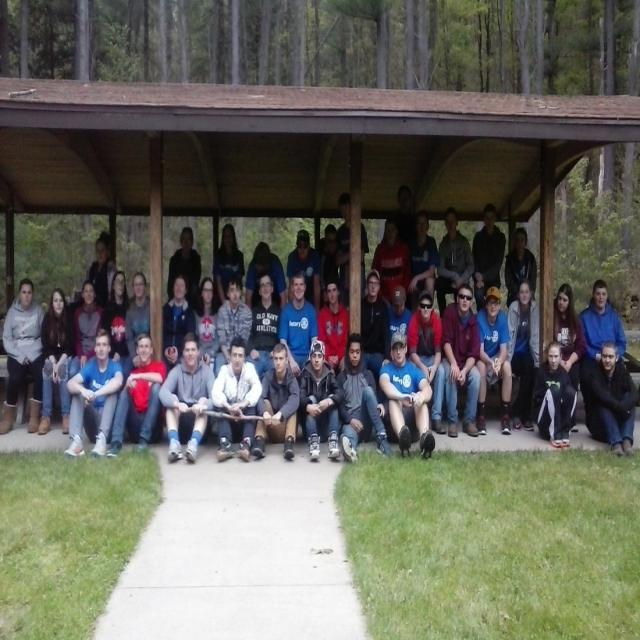body: (104, 328, 169, 462), (63, 326, 126, 460), (157, 328, 218, 465), (334, 331, 395, 464), (377, 329, 438, 461), (0, 276, 47, 436), (209, 334, 263, 464), (438, 282, 481, 440), (578, 277, 628, 412), (585, 338, 639, 457), (405, 287, 447, 436), (250, 339, 300, 463), (36, 286, 76, 437), (297, 338, 345, 463), (474, 285, 513, 437), (506, 277, 542, 433), (530, 337, 579, 451), (552, 282, 587, 435), (276, 268, 319, 385), (436, 205, 475, 318), (470, 201, 507, 319), (216, 274, 256, 380), (245, 270, 282, 379), (335, 192, 370, 307), (67, 278, 106, 381), (370, 217, 416, 301), (162, 272, 197, 378), (120, 271, 150, 388), (406, 208, 441, 308), (360, 267, 390, 378), (317, 279, 351, 375), (285, 228, 322, 313), (192, 276, 223, 376), (245, 240, 288, 312), (83, 228, 119, 313), (100, 269, 132, 361), (503, 226, 538, 310), (166, 225, 202, 303), (214, 221, 246, 305), (314, 222, 345, 307), (386, 183, 418, 252), (385, 285, 414, 351), (376, 345, 395, 423)
